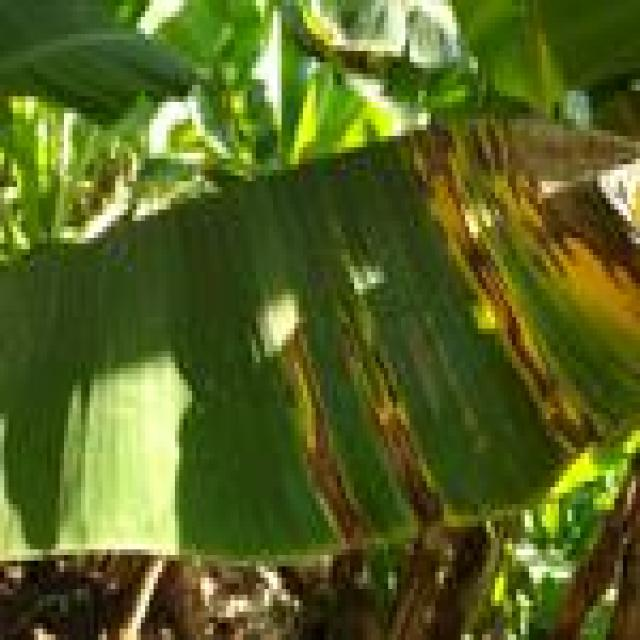Early_rust: (208, 94, 640, 594)
